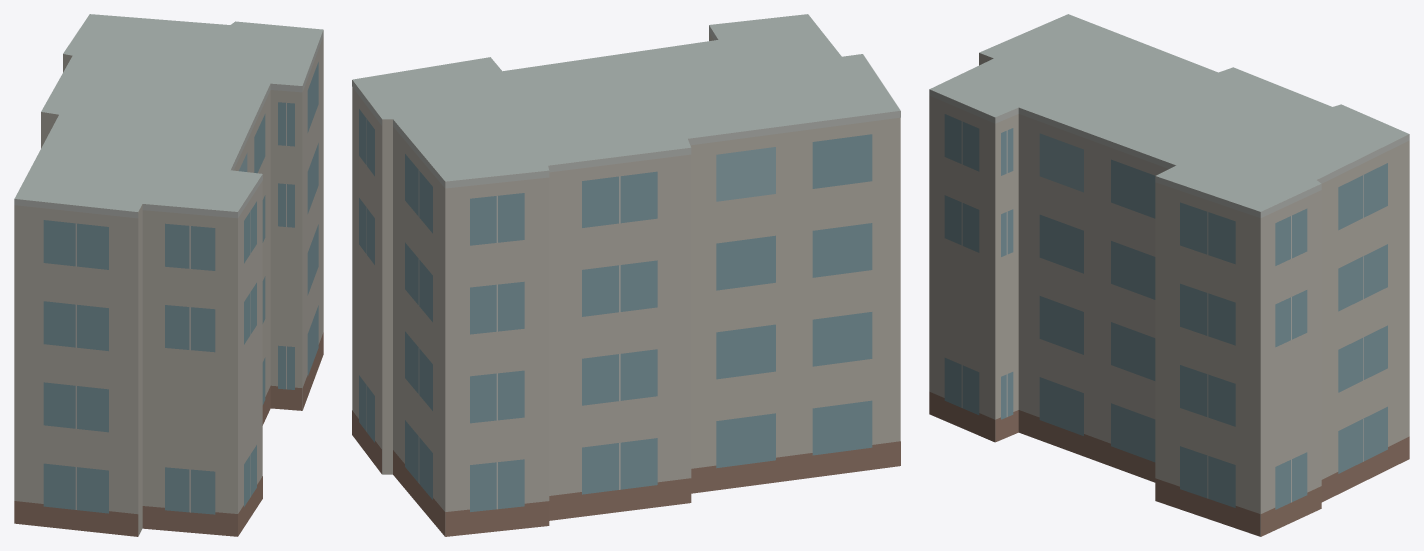
Rendered from survey-upis-32672637.glb.
The picture shows the model from 3 angles, left to right: view 1: azimuth 30°, elevation 25°; view 2: azimuth 150°, elevation 25°; view 3: azimuth 270°, elevation 25°; orthographic projection. The views are drawn at different scales.
Parts seen in each view (by area): view 1: survey-upis-32672637.tmp; view 2: survey-upis-32672637.tmp; view 3: survey-upis-32672637.tmp.
Boxes of the visible parts, left/top/right/bottom form: survey-upis-32672637.tmp: left=14, top=14, right=323, bottom=536; survey-upis-32672637.tmp: left=352, top=14, right=900, bottom=536; survey-upis-32672637.tmp: left=929, top=14, right=1409, bottom=536.
Bounding box in the file's own units: 16.47 × 12.6 × 16.88.
